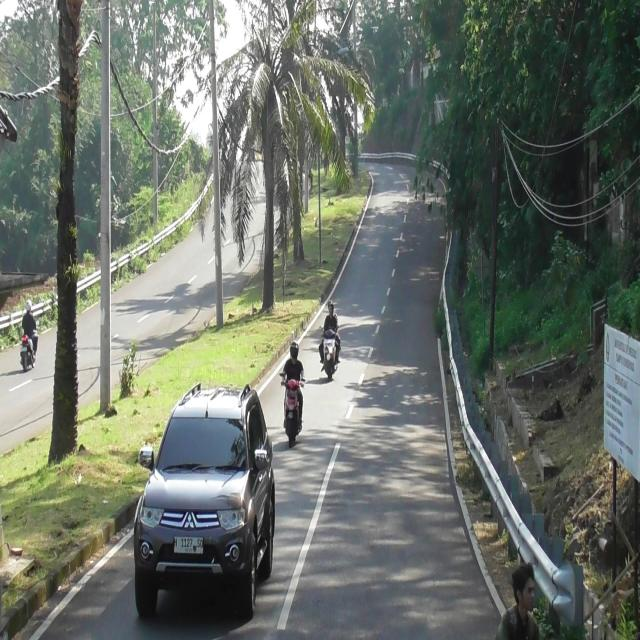motorcycle: (280, 371, 303, 443), (19, 334, 37, 372), (322, 327, 335, 377)
person: (283, 343, 303, 430), (318, 297, 341, 363), (22, 299, 38, 358), (322, 303, 338, 333)
rider_region: (281, 341, 306, 447), (318, 295, 342, 378), (17, 294, 40, 370)
